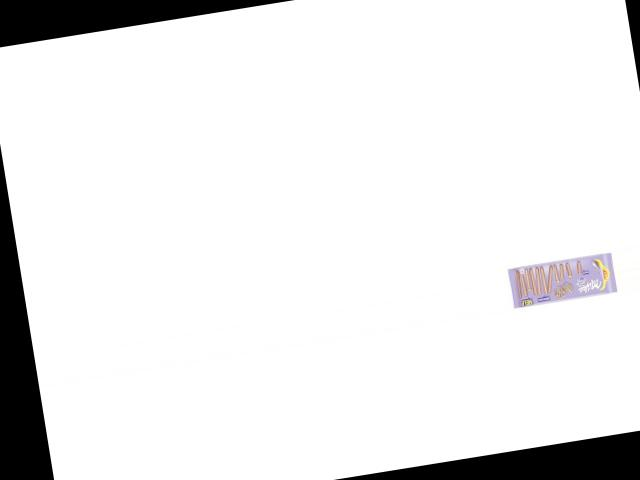chocolate: (504, 246, 618, 309)
